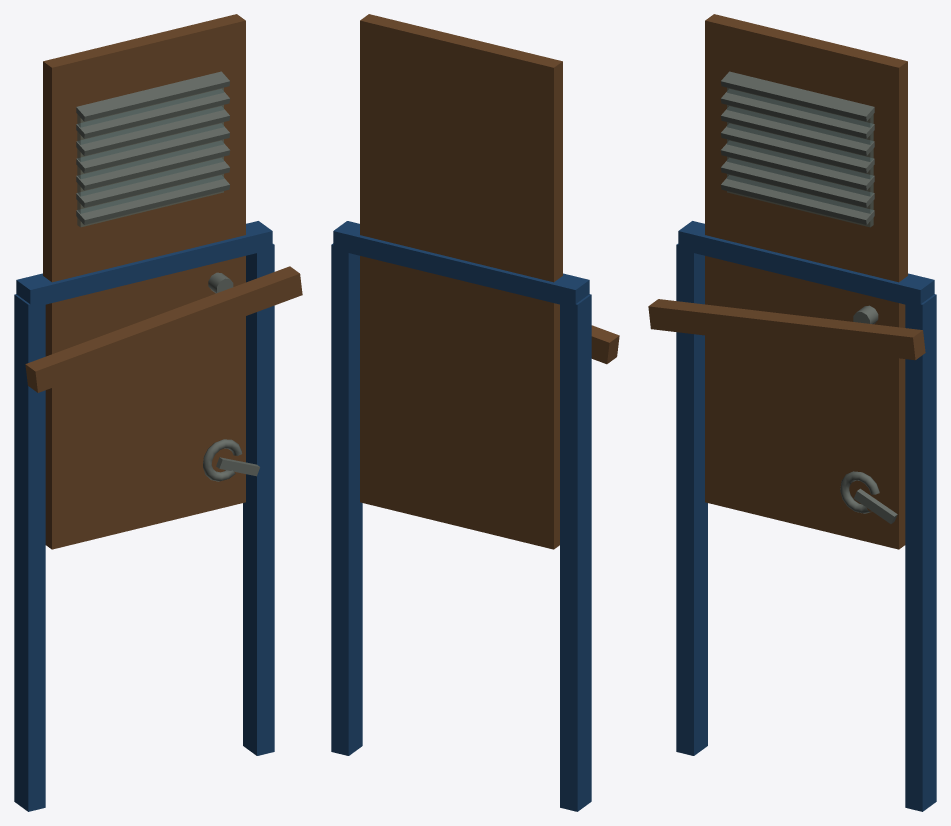
The model's file is ucb_classroom_door_barricade_psx.glb.
The picture shows the model from 3 angles, left to right: view 1: azimuth 30°, elevation 25°; view 2: azimuth 150°, elevation 25°; view 3: azimuth 330°, elevation 25°; orthographic projection.
Parts seen in each view (by area): view 1: door_leaf, door_frame_left, door_frame_right, barricade_plank, door_frame_top, jalousie_glass, jalousie_slat_6, jalousie_slat_2, jalousie_slat_3, jalousie_slat_4, jalousie_slat_5, jalousie_slat_1 (+2 smaller); view 2: door_leaf, door_frame_left, door_frame_right, door_frame_top, barricade_plank; view 3: door_leaf, door_frame_right, door_frame_left, barricade_plank, door_frame_top, jalousie_glass, jalousie_slat_6, jalousie_slat_2, jalousie_slat_3, jalousie_slat_4, jalousie_slat_5, jalousie_slat_1 (+3 smaller).
Boxes of the visible parts, box(x1,y1,x2,y2) form: door_leaf: box(43, 14, 245, 549); door_frame_left: box(14, 294, 45, 811); door_frame_right: box(243, 244, 274, 755); barricade_plank: box(25, 266, 302, 392); door_frame_top: box(16, 221, 272, 308); jalousie_glass: box(77, 87, 223, 227); jalousie_slat_6: box(76, 71, 229, 121); jalousie_slat_2: box(76, 140, 230, 190); jalousie_slat_3: box(76, 123, 229, 173); jalousie_slat_4: box(76, 106, 229, 155); jalousie_slat_5: box(76, 89, 230, 138); jalousie_slat_1: box(76, 158, 230, 207); door_leaf: box(360, 14, 562, 549); door_frame_left: box(560, 294, 591, 811); door_frame_right: box(331, 243, 362, 755); door_frame_top: box(333, 221, 589, 308); barricade_plank: box(591, 325, 619, 364); door_leaf: box(705, 14, 907, 549); door_frame_right: box(905, 294, 936, 811); door_frame_left: box(676, 244, 707, 755); barricade_plank: box(648, 299, 925, 360); door_frame_top: box(678, 221, 934, 308); jalousie_glass: box(727, 87, 873, 227); jalousie_slat_6: box(721, 71, 874, 121); jalousie_slat_2: box(720, 140, 874, 190); jalousie_slat_3: box(721, 123, 874, 173); jalousie_slat_4: box(721, 106, 874, 155); jalousie_slat_5: box(720, 89, 874, 138); jalousie_slat_1: box(720, 158, 874, 207).
Bounding box in the file's own units: 2.76 × 7.25 × 0.565.
